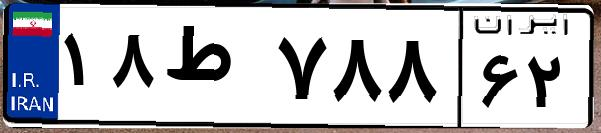1: (57, 26, 110, 100)
2: (525, 38, 570, 115)
6: (475, 38, 525, 113)
7: (270, 28, 330, 110)
8: (385, 28, 445, 110), (330, 28, 385, 110), (110, 28, 158, 98)
ط: (158, 20, 270, 120)
